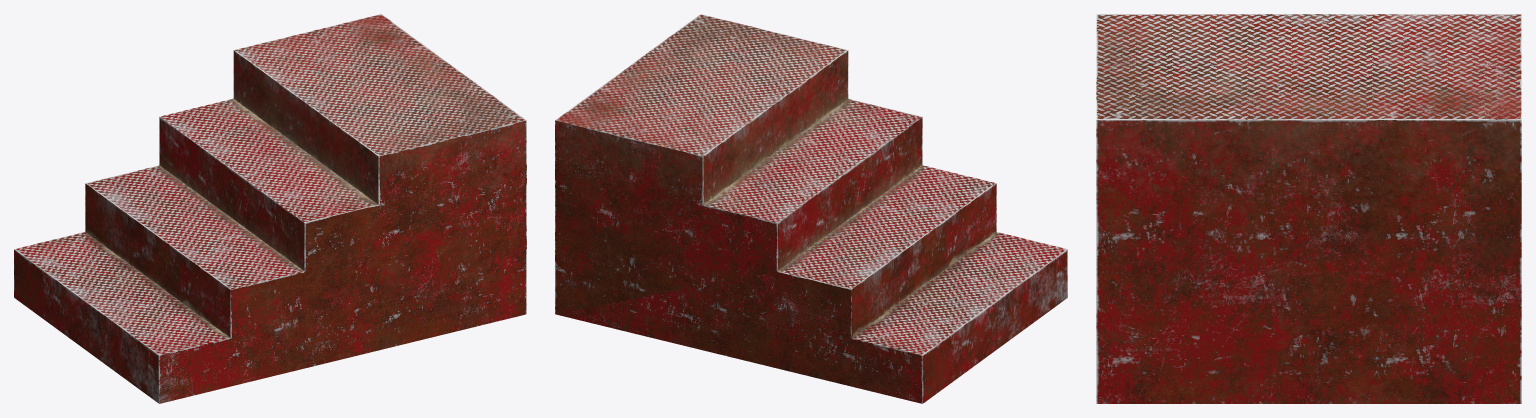
Rendered from m26_taijie.FBX.
The picture shows the model from 3 angles, left to right: view 1: azimuth 30°, elevation 25°; view 2: azimuth 150°, elevation 25°; view 3: azimuth 270°, elevation 25°; orthographic projection. The views are drawn at different scales.
Parts seen in each view (by area): view 1: Box001; view 2: Box001; view 3: Box001.
Boxes of the visible parts, x1,y1,x2,y2 form: Box001: [14, 14, 526, 403]; Box001: [555, 14, 1067, 403]; Box001: [1096, 14, 1521, 403].
Bounding box in the file's own units: 1.55 × 0.7804 × 1.06.
